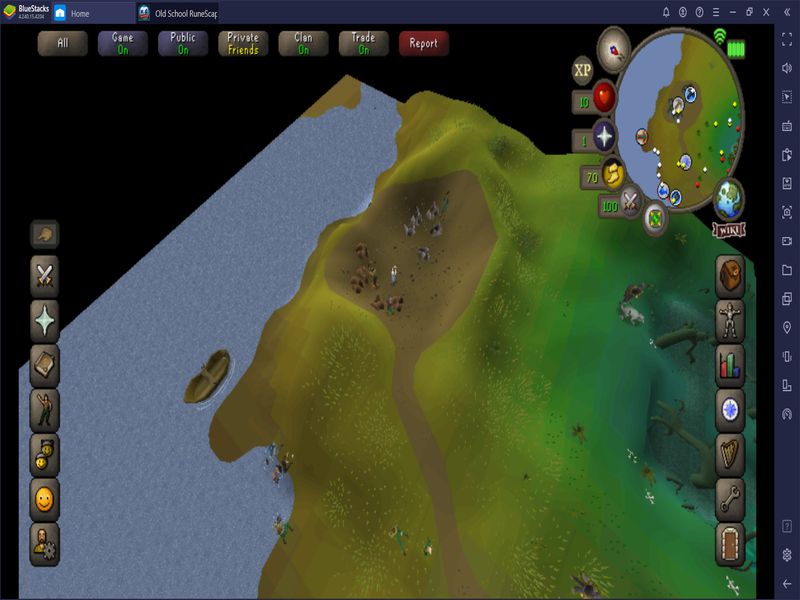copper_rock_1: (388, 295, 407, 313)
copper_rock_2: (370, 293, 386, 313)
